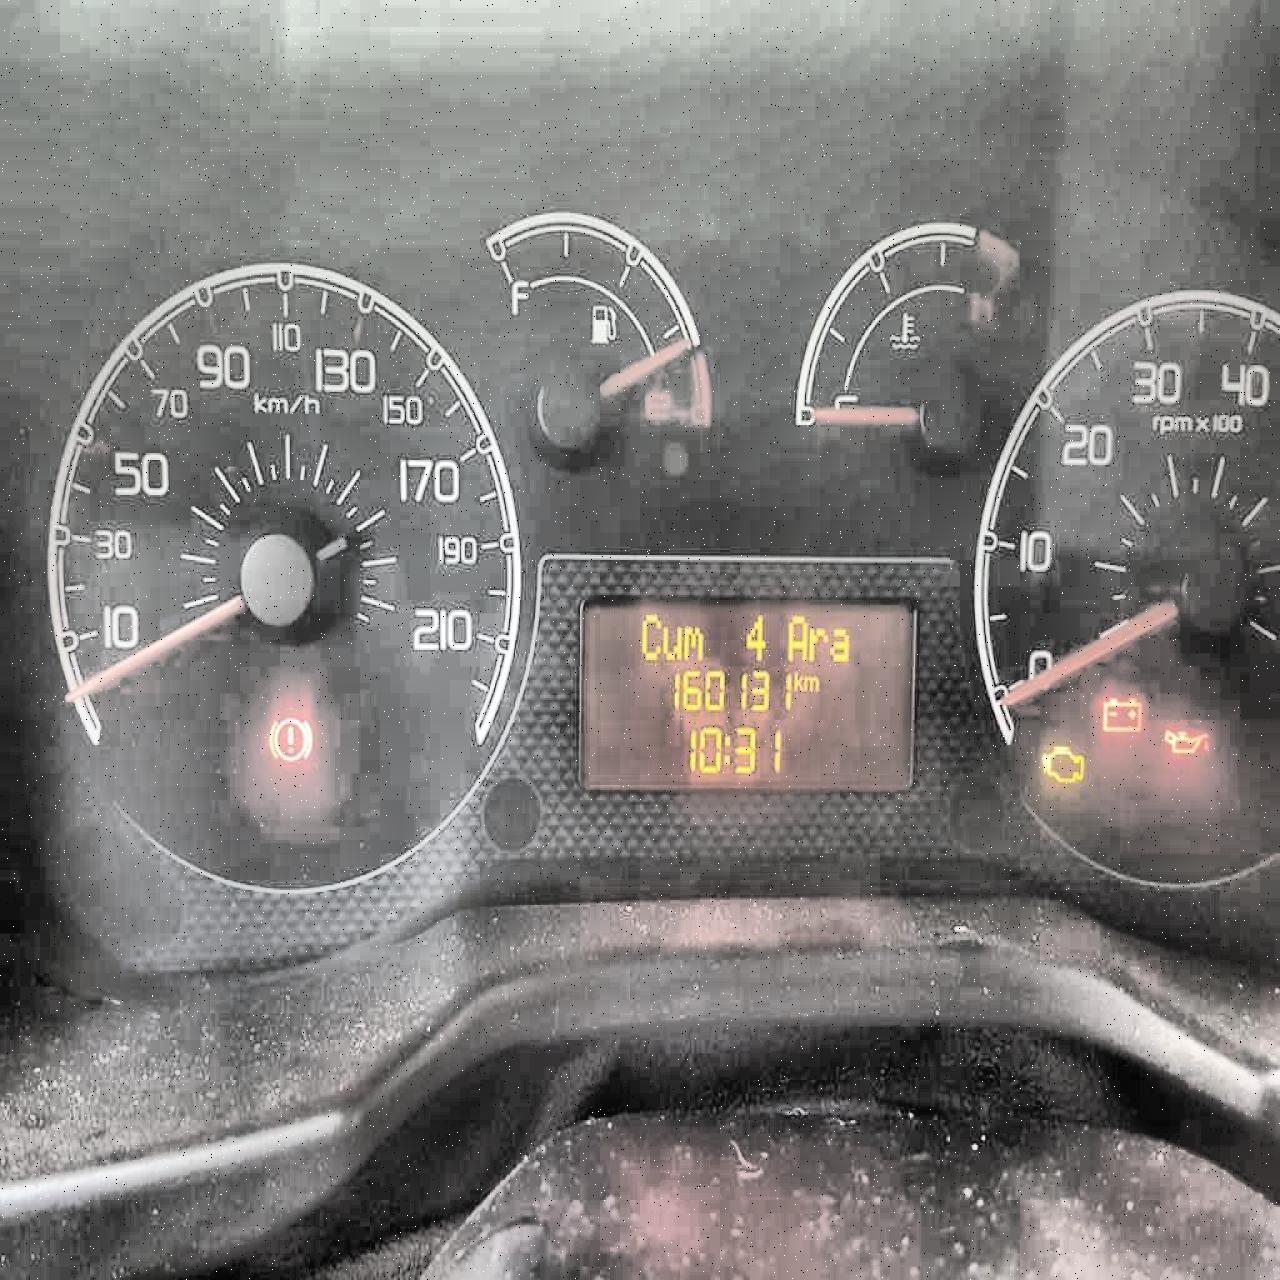0: (697, 723, 720, 774), (702, 667, 727, 712)
1: (769, 723, 785, 771), (683, 727, 697, 774), (734, 667, 748, 710), (667, 668, 681, 710), (778, 668, 791, 714)
3: (733, 723, 755, 775), (749, 667, 770, 713)
4: (742, 611, 767, 662)
6: (681, 667, 702, 712)
X: (638, 610, 661, 663), (784, 612, 808, 663), (828, 625, 851, 665), (808, 621, 828, 666), (659, 621, 681, 661), (681, 624, 702, 662), (722, 730, 733, 768), (802, 673, 819, 692), (792, 666, 803, 692)
odometer: (577, 590, 918, 795)
